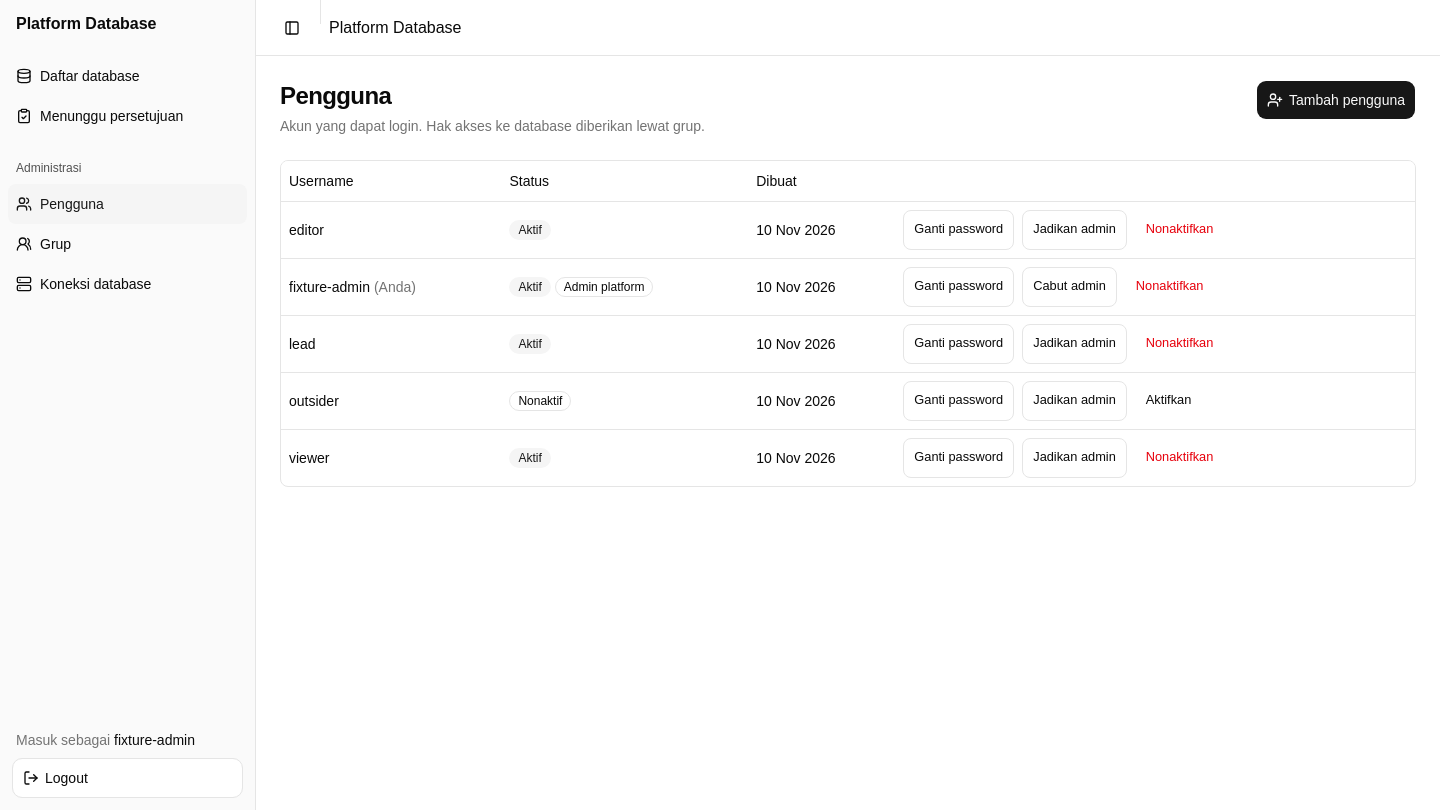
user administration › replaces a password without showing it back
Click the button "Ganti password" in the row of "lead" at (959, 344), box [903,324,1014,364]
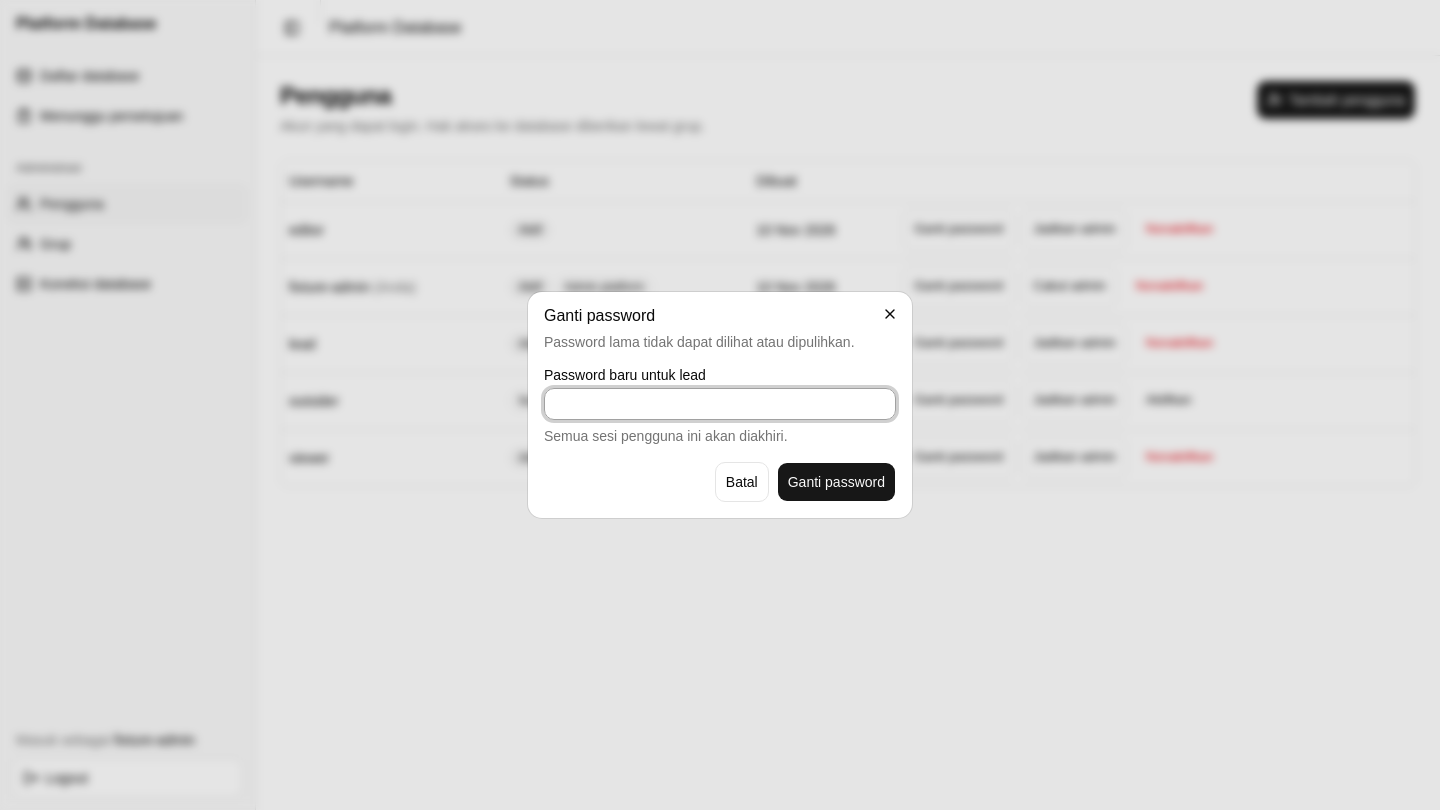
Type "password-baru-rahasia" into the password field labelled "Password baru untuk lead" at (720, 404), box [544,388,896,420]
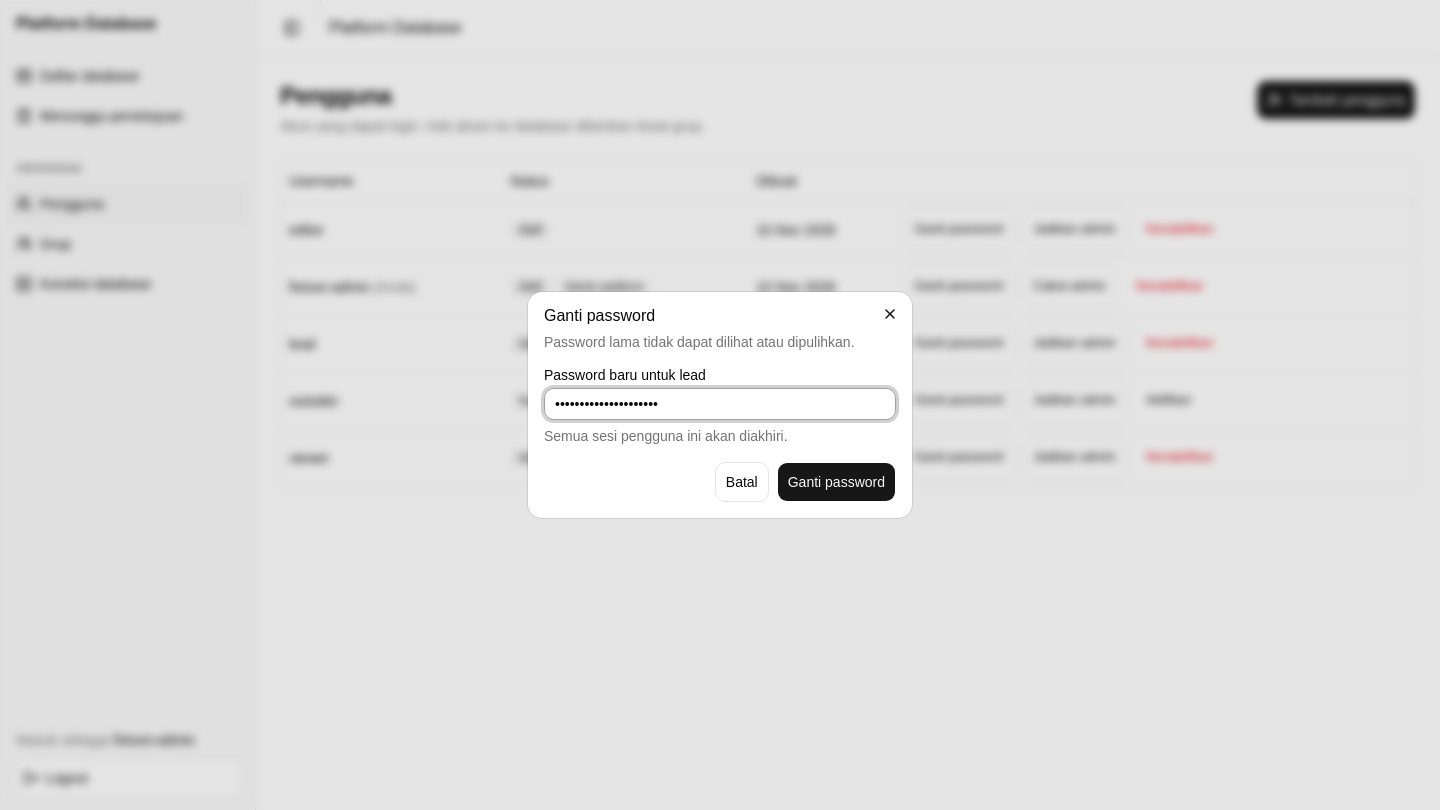
Click the button "Ganti password" at (836, 482), box [777,462,896,502]
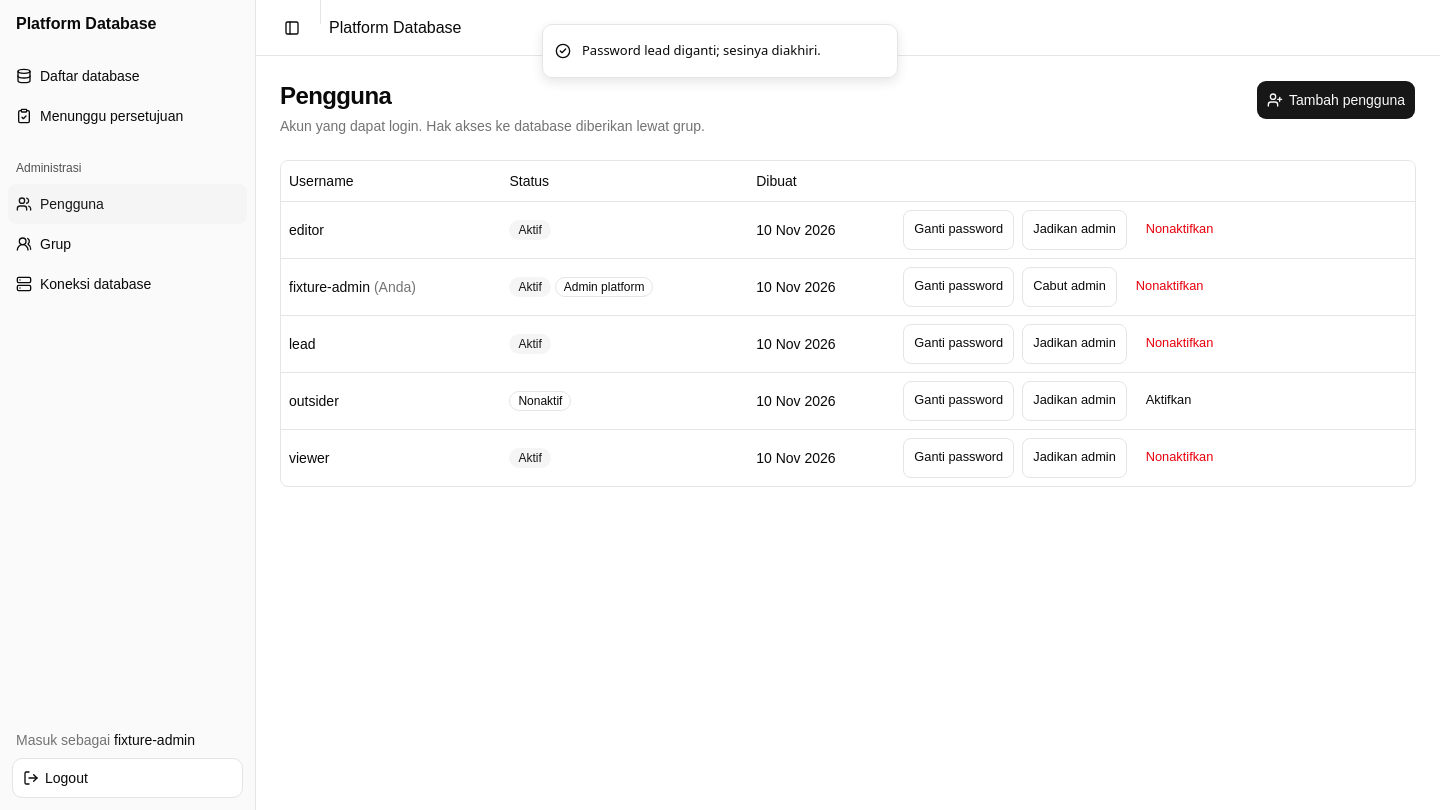
Now the text "Password lead diganti; sesinya diakhiri." is shown, box [582,41,821,60]
